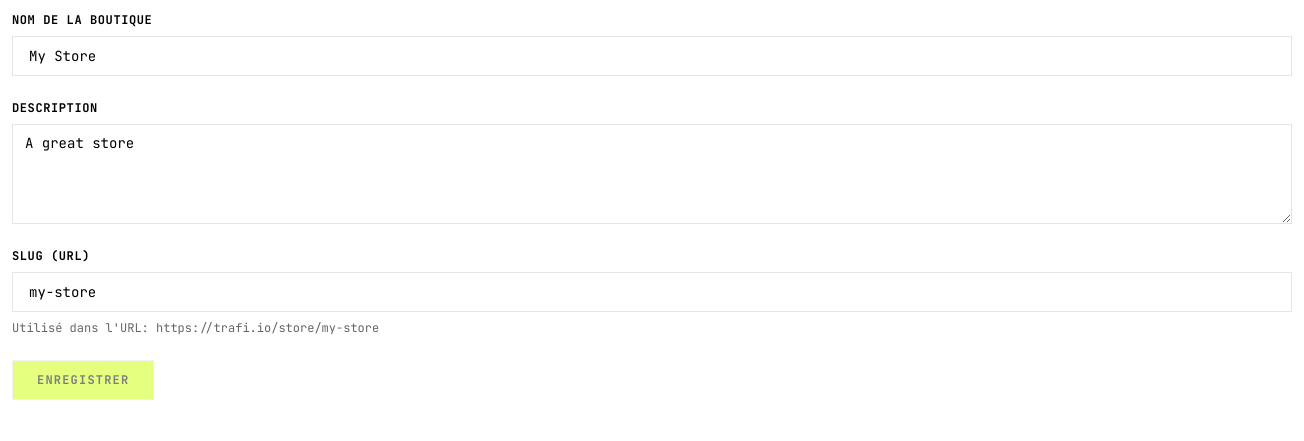
GeneralSettingsForm › Save Button State › should disable save button when form has validation errors
# Enter invalid slug (with spaces - remains invalid after lowercasing)
Replace the text in the field with test id "settings-slug-input" with "invalid slug" at (652, 292), box x1=12 y1=272 x2=1292 y2=312
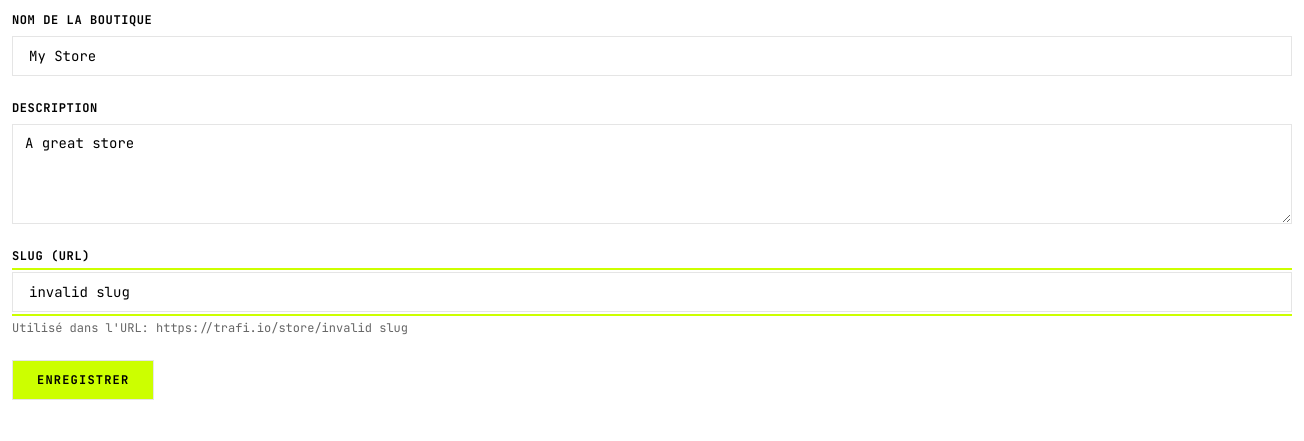
Press Tab
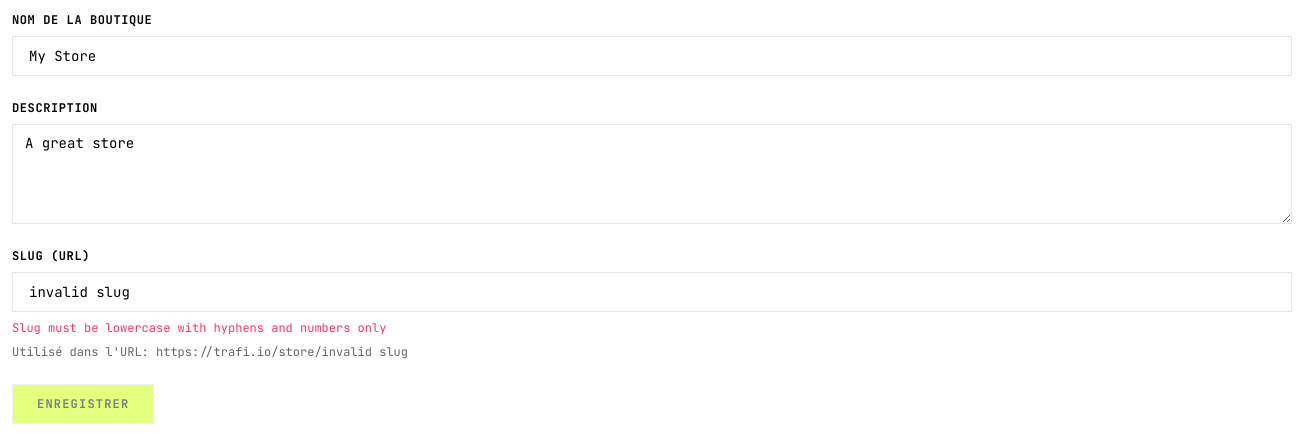
expect the text "Slug must be lowercase with hyphens and numbers only" is shown: met, box x1=12 y1=320 x2=386 y2=336
expect the button with test id "settings-save-button" is disabled: met, box x1=12 y1=384 x2=154 y2=424
